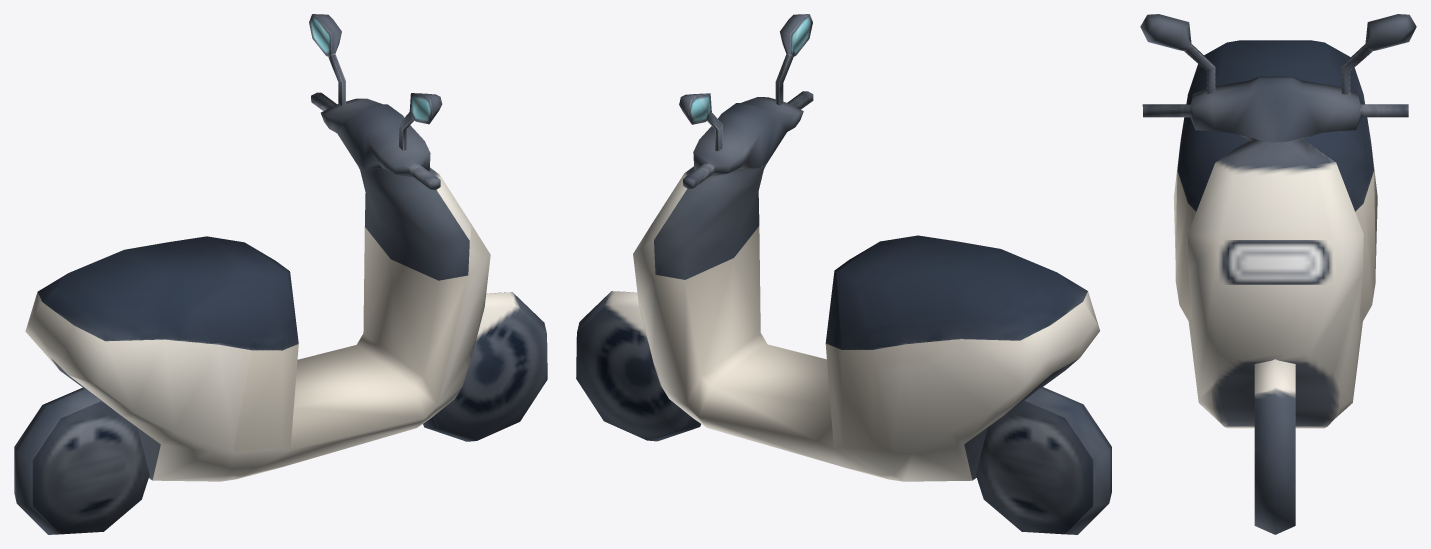
File: Beige_scooter.glb
3 views of the same model, side by side, from view 1: azimuth 30°, elevation 25°; view 2: azimuth 150°, elevation 25°; view 3: azimuth 270°, elevation 25° (orthographic). The views are drawn at different scales.
Visible parts, largest first — view 1: Beige_scooter.001; view 2: Beige_scooter.001; view 3: Beige_scooter.001.
Part boxes in pixels (x1,y1,x2,y2): Beige_scooter.001: (14,14,547,534); Beige_scooter.001: (576,14,1111,534); Beige_scooter.001: (1140,14,1416,534).
Bounding box in the file's own units: 1.01 × 0.7454 × 0.411.
1 material, 1 textured.
